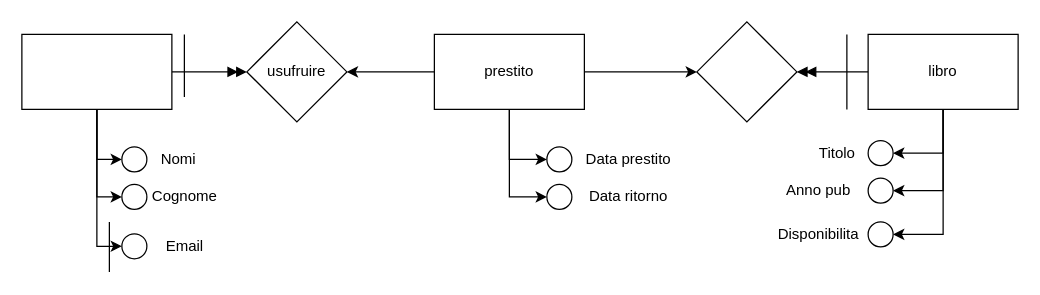
The diagram is 1040 pixels wide and 295 high, and some of its shapes have lost their labels. Each missing label, with the centre of its shape:
"allocare" goes at (x=746, y=71).
"utente" goes at (x=96, y=71).
